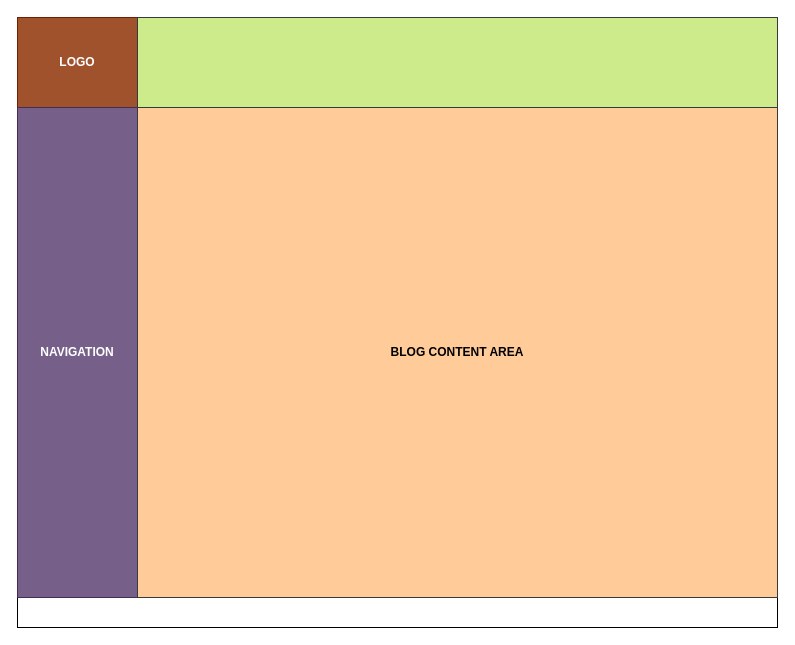
Image size: 795x645. Some labels were removed from this diagram. Each missing label, with the centre of its shape:
"FOOTER" belongs at pixel 397 612.
"HEADER TITLE" belongs at pixel 457 62.
